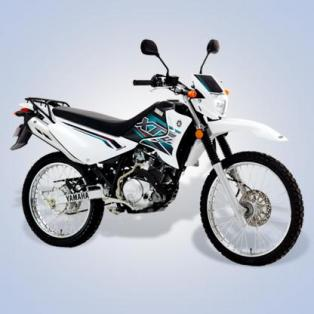Motocicleta: (4, 28, 306, 270)
